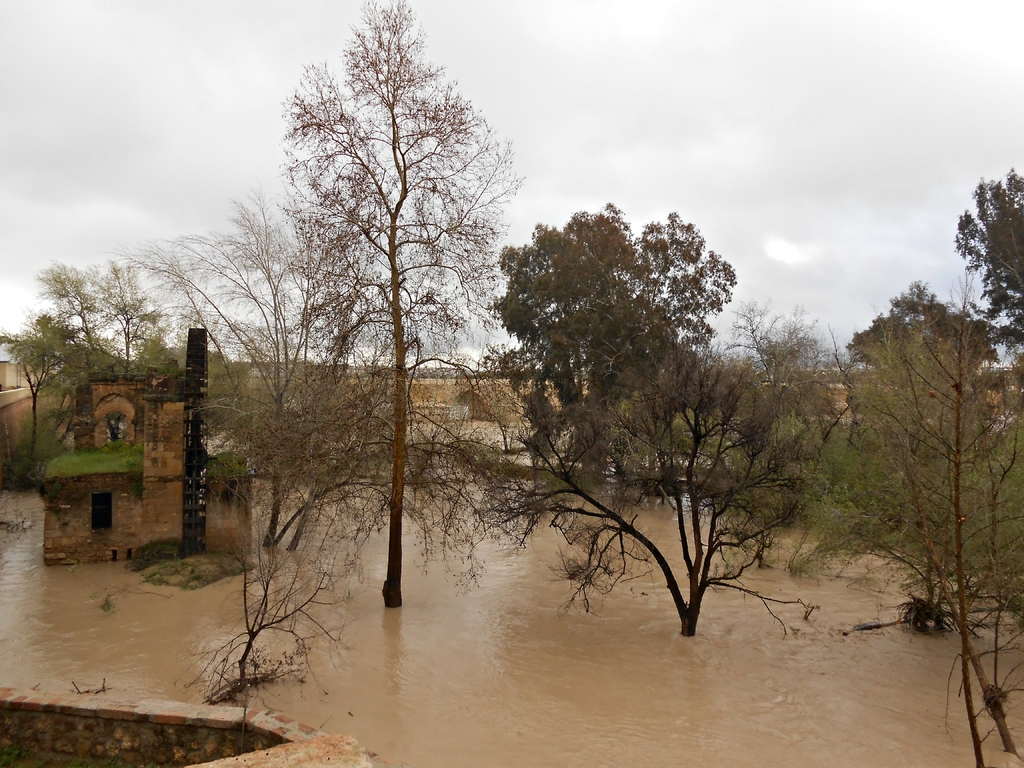Tree: (190, 0, 526, 606), (794, 282, 1023, 767), (518, 311, 838, 641), (498, 196, 732, 480), (0, 261, 189, 472), (939, 165, 1023, 355)
